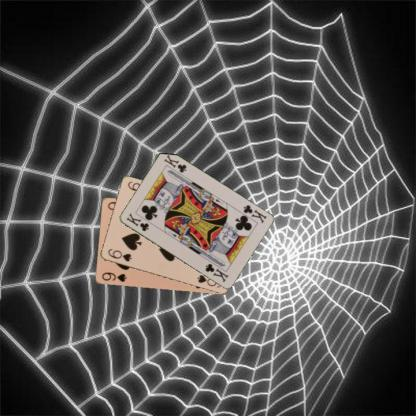6s: (105, 246, 133, 263)
9s: (99, 270, 128, 283)
Kc: (240, 202, 268, 225), (124, 210, 150, 233)
